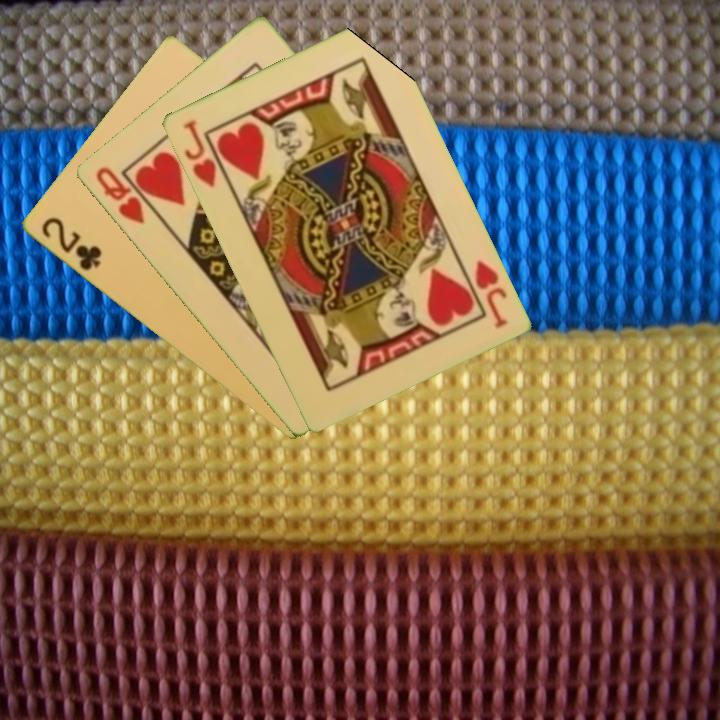2c: (37, 213, 105, 274)
Jh: (178, 116, 219, 191), (470, 256, 510, 331)
Qh: (91, 163, 148, 227)
